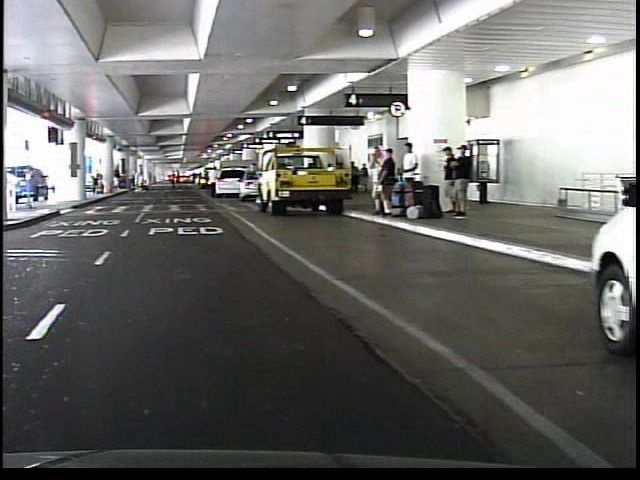person: (362, 143, 381, 215), (450, 144, 468, 218), (124, 163, 140, 197), (202, 165, 213, 199)
